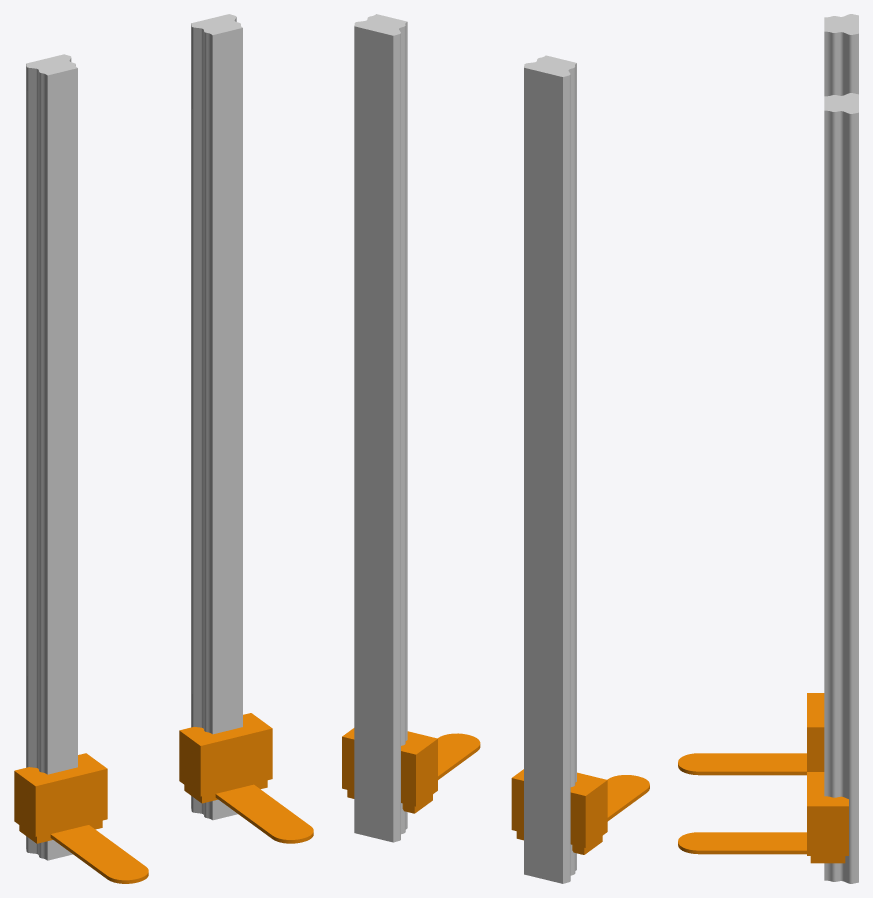
Rendered from Рельсы.fbx.
3 renders of one model, left to right at view 1: azimuth 30°, elevation 25°; view 2: azimuth 150°, elevation 25°; view 3: azimuth 270°, elevation 25°, orthographic. The views are drawn at different scales.
Visible parts, largest first — view 1: Plane.002, Plane.003; view 2: Plane.002, Plane.003; view 3: Plane.002, Plane.003.
Part boxes in pixels (<box>): Plane.002: <box>26,14,242,860</box>; Plane.003: <box>14,713,313,883</box>; Plane.002: <box>354,14,576,883</box>; Plane.003: <box>342,728,649,854</box>; Plane.002: <box>824,14,858,883</box>; Plane.003: <box>678,693,848,863</box>.
Size of the model in its own units: 631 by 1996 by 425.
